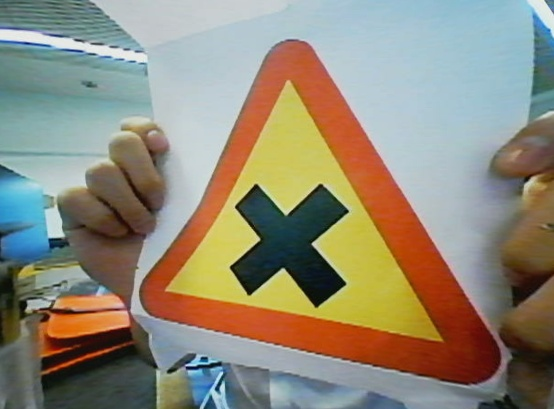junction: (80, 25, 523, 409)
